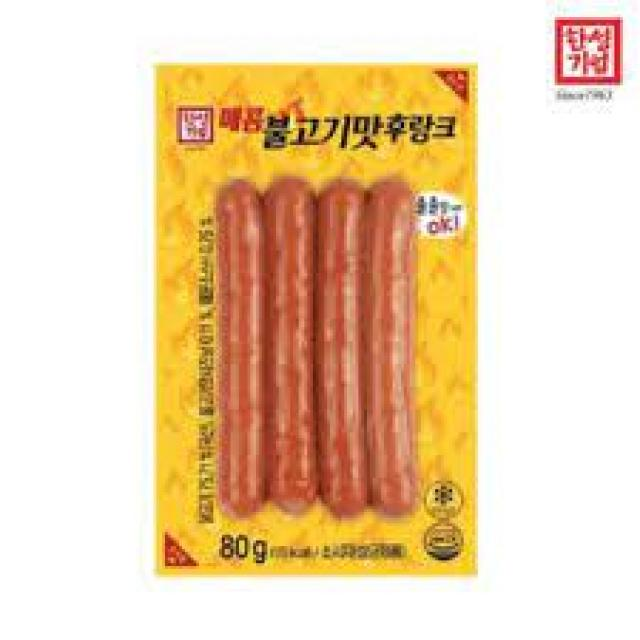sausage: (185, 162, 432, 529)
